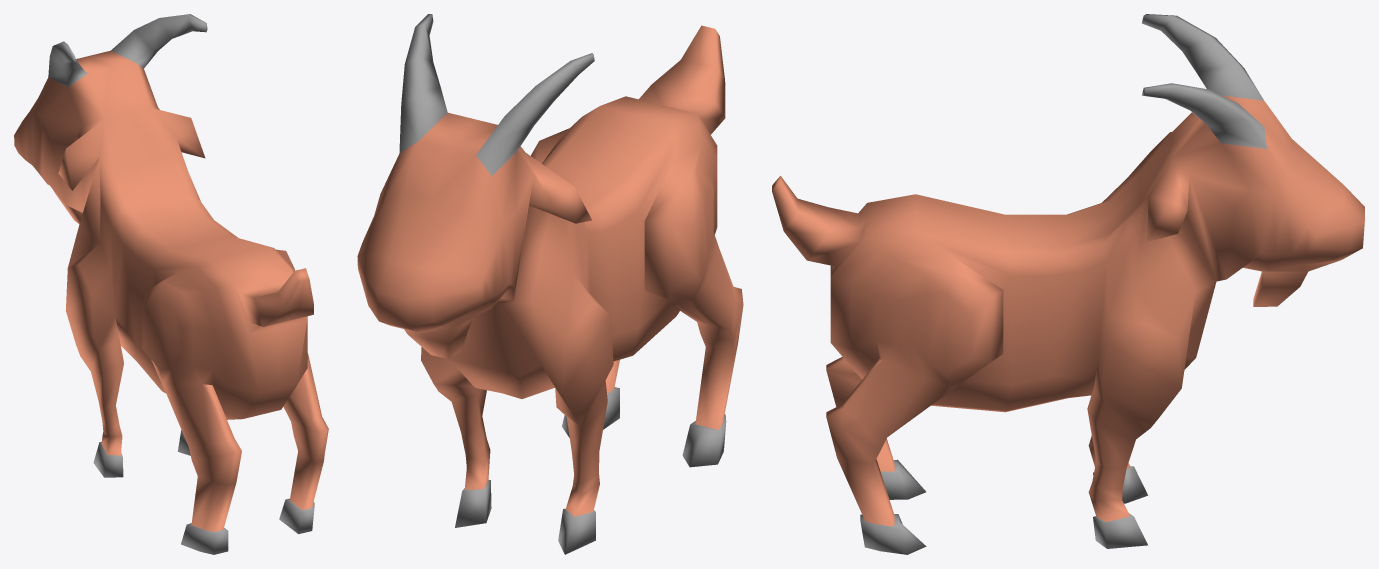
Rendered from goat.glb.
3 views of the same model, side by side, from view 1: azimuth 30°, elevation 25°; view 2: azimuth 150°, elevation 25°; view 3: azimuth 270°, elevation 25° (orthographic). The views are drawn at different scales.
Visible parts, largest first — view 1: Goat; view 2: Goat; view 3: Goat.
Part boxes in pixels (x1,y1,x2,y2): Goat: (14, 14, 328, 554); Goat: (357, 14, 743, 554); Goat: (772, 14, 1364, 554).
Size of the model in its own units: 0.3946 by 1.06 by 1.21.
